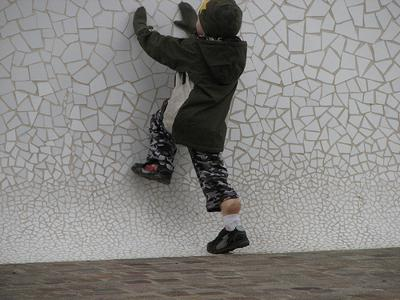person: (130, 1, 251, 254)
